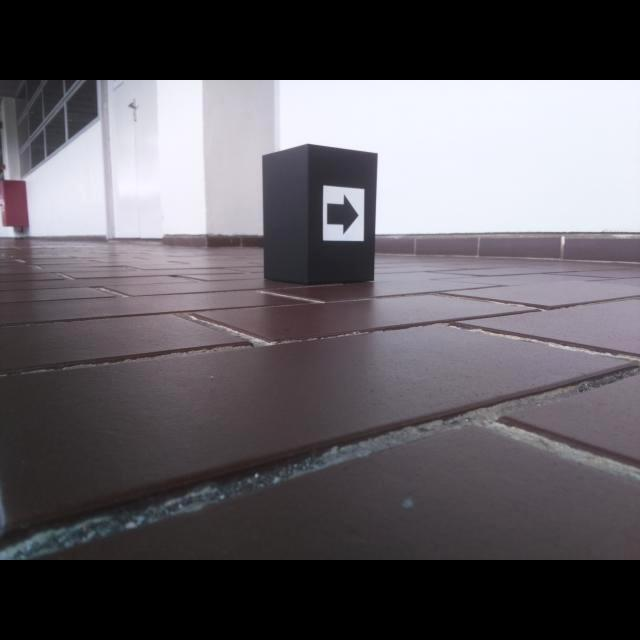RIGHT: (326, 193, 360, 236)
